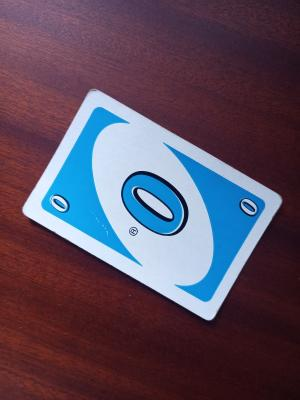blue: (56, 158, 217, 242)
num_0: (45, 191, 77, 216), (234, 195, 264, 219)
